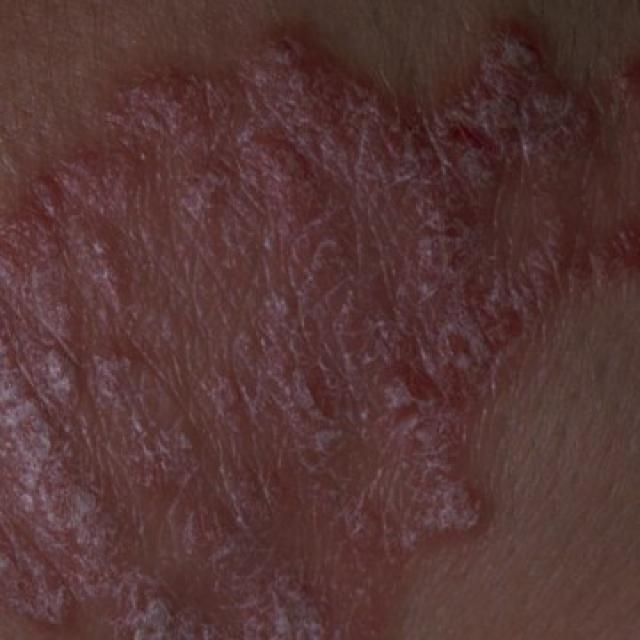Psoriasis: (0, 23, 638, 638)
